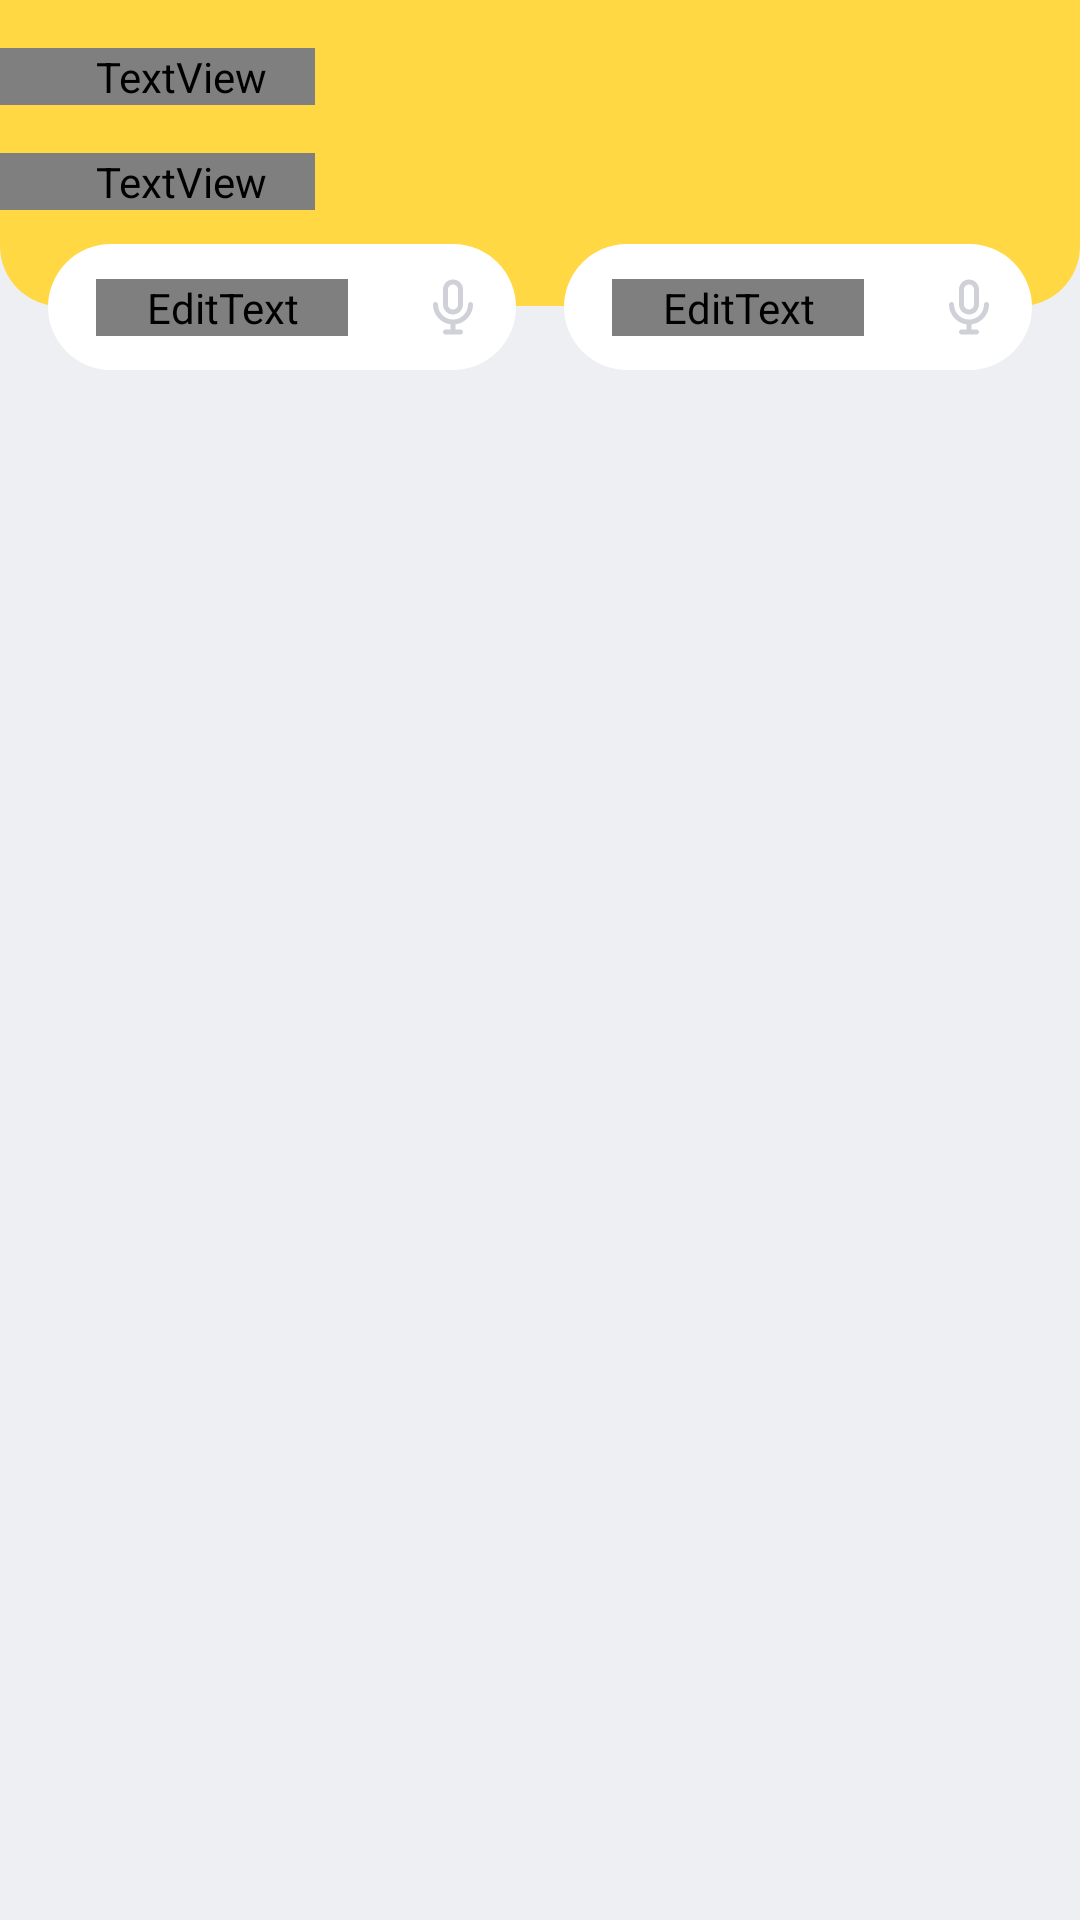

Named icons in this screenshot (1080×1920) and their centers, [x,y]:
but voice: [453,307], [969,307]
